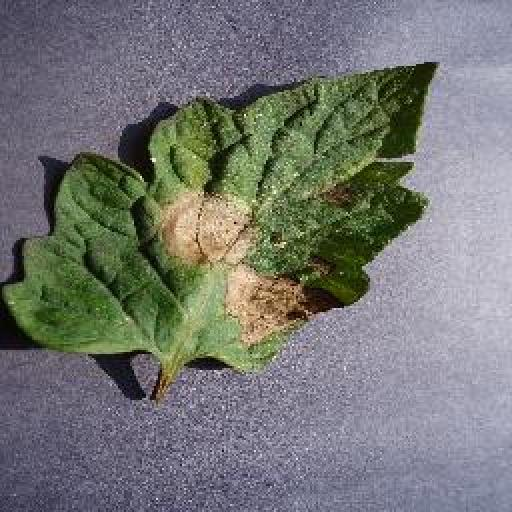Late Blight: (1, 63, 443, 377)
